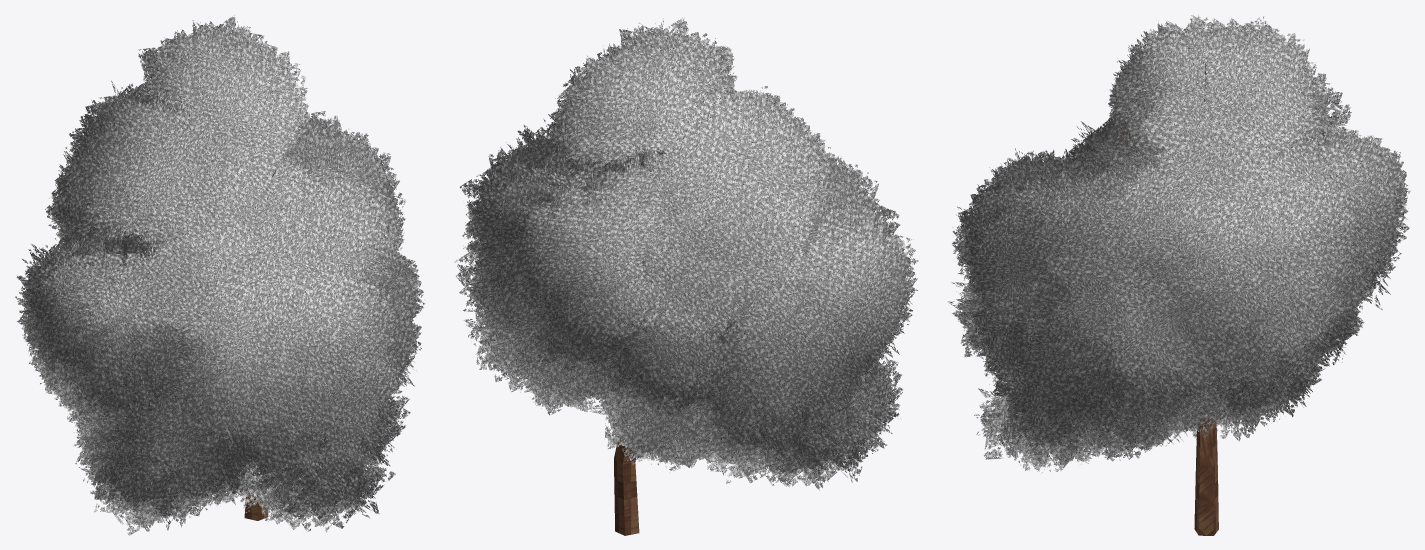
File: M_Tree7_CO.fbx
3 renders of one model, left to right at view 1: azimuth 30°, elevation 25°; view 2: azimuth 150°, elevation 25°; view 3: azimuth 270°, elevation 25°, orthographic. The views are drawn at different scales.
Parts seen in each view (by area): view 1: quick_basic_tree1; view 2: quick_basic_tree1; view 3: quick_basic_tree1.
Part boxes in pixels (x1,y1,x2,y2): quick_basic_tree1: (15, 15, 425, 535); quick_basic_tree1: (454, 18, 918, 535); quick_basic_tree1: (947, 15, 1410, 535).
Bounding box in the file's own units: 19.08 × 23.12 × 19.62.
